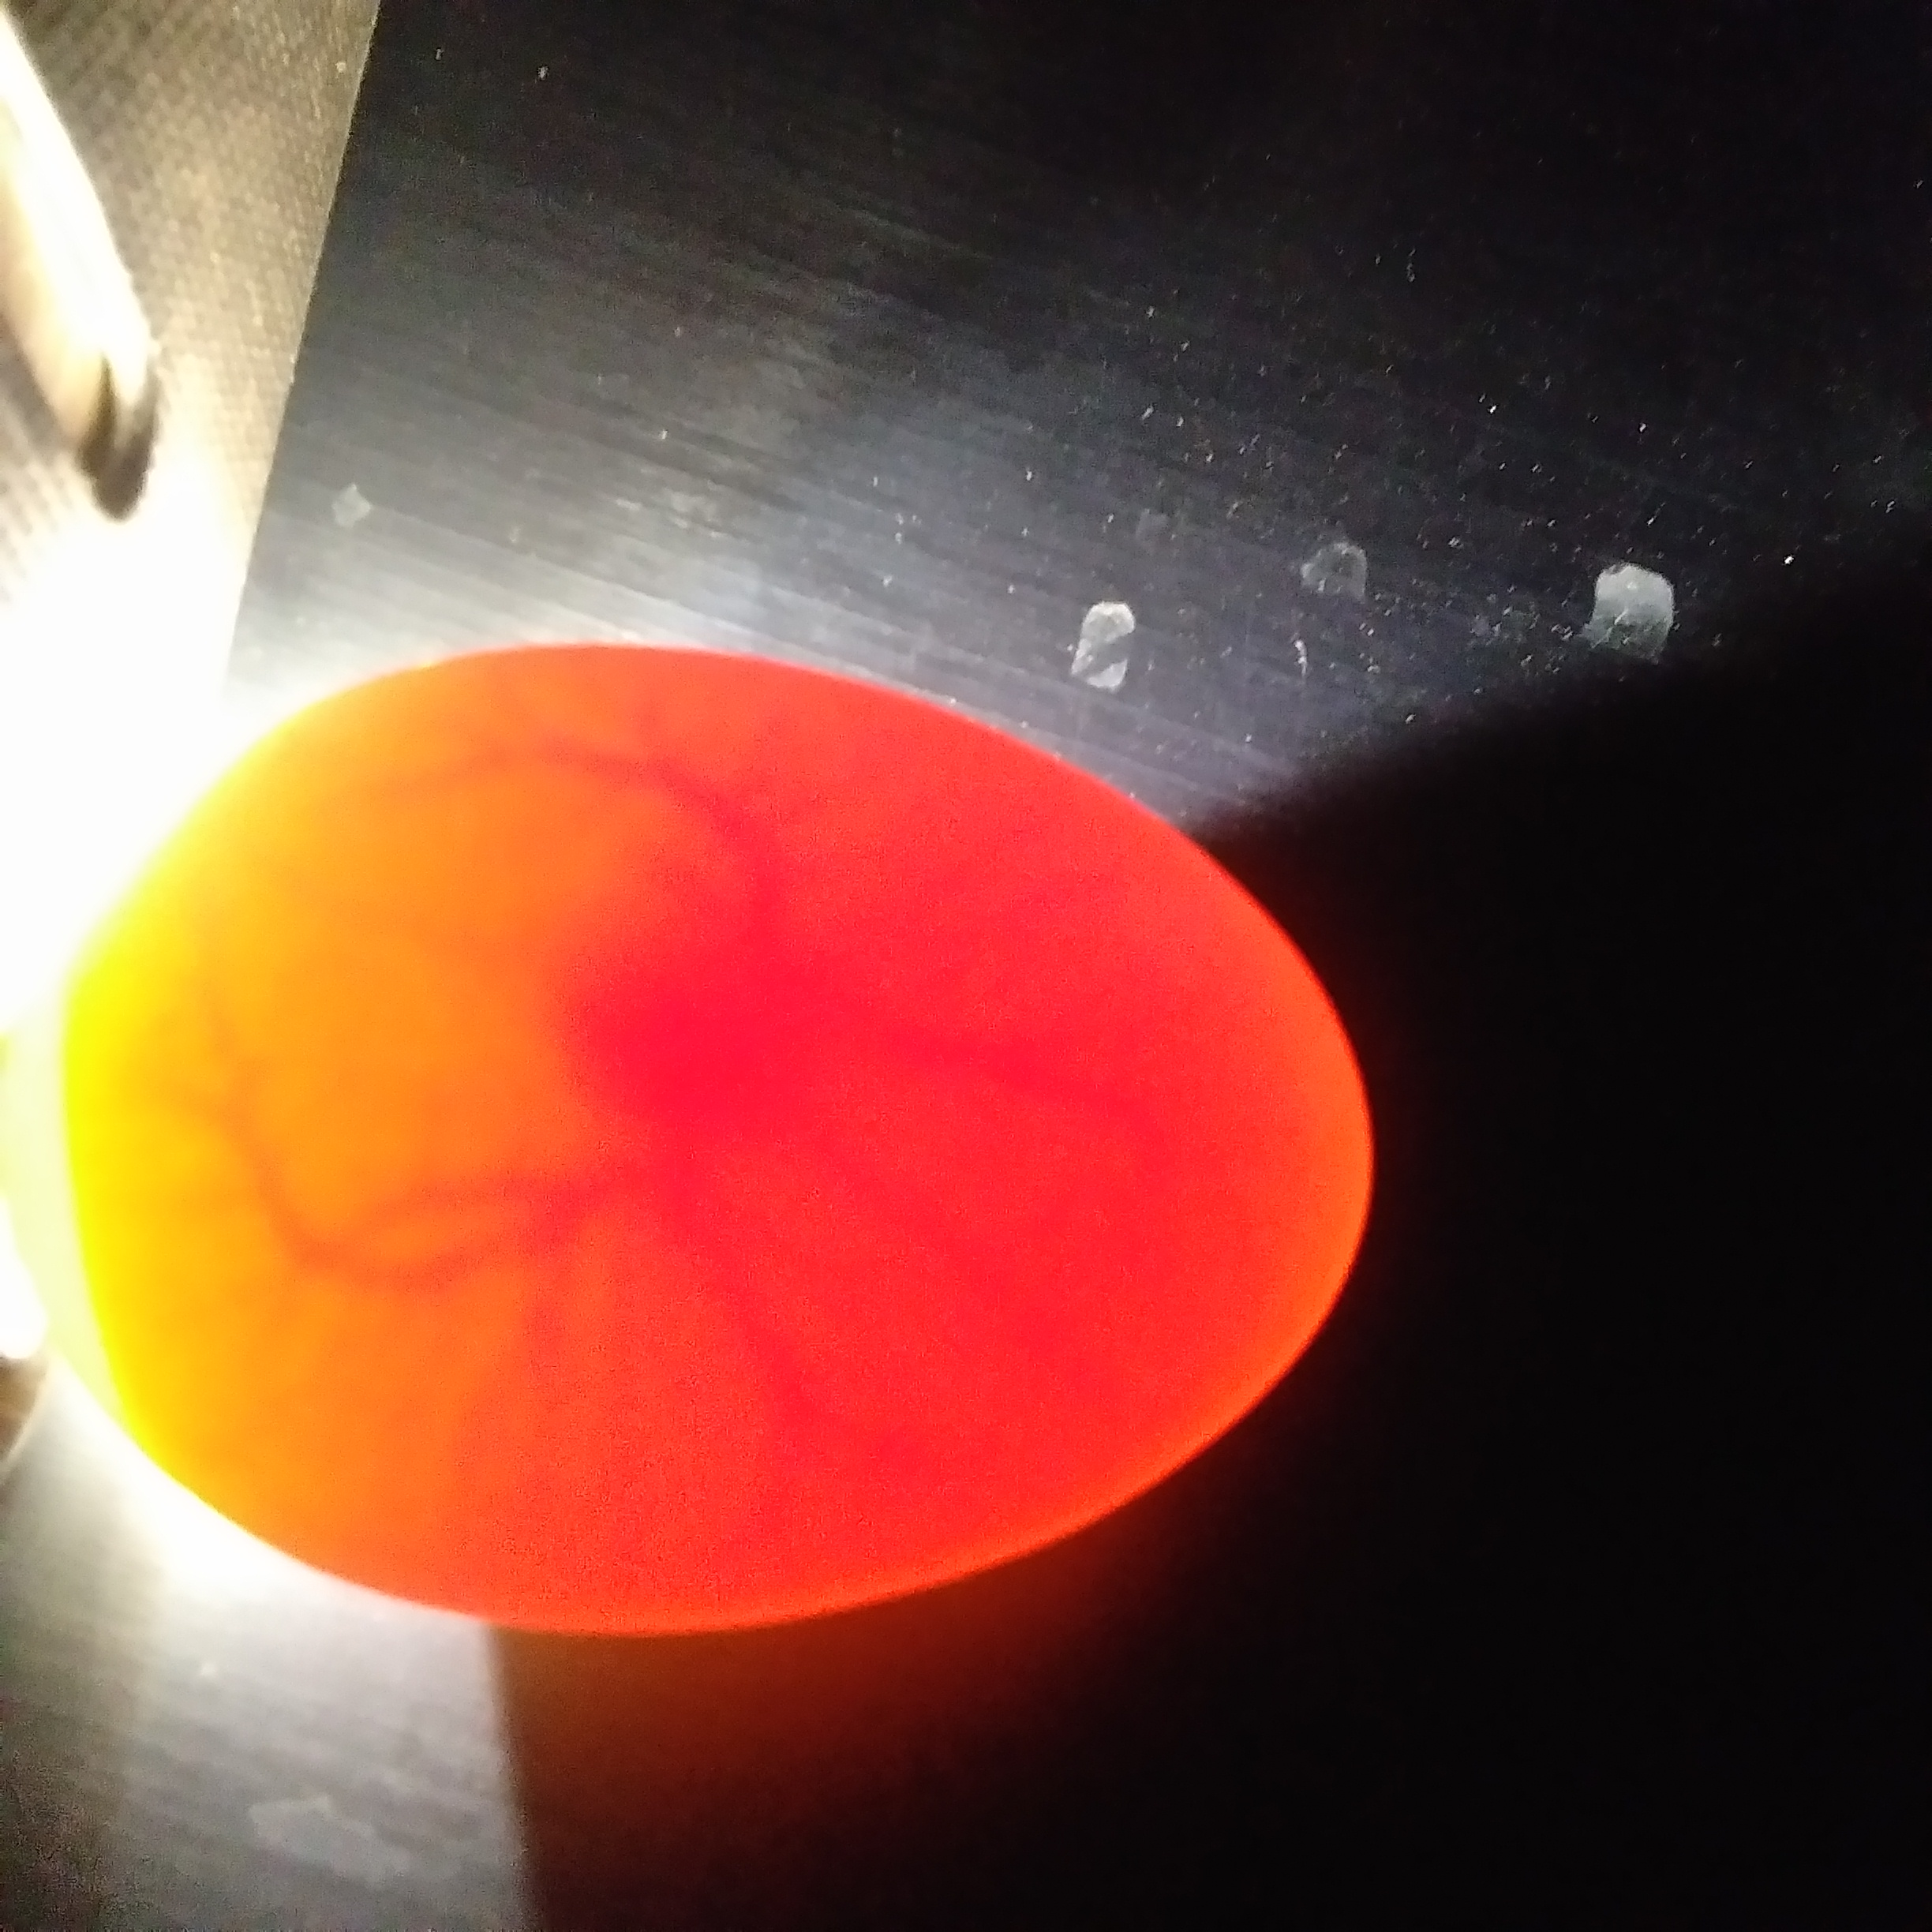bloodcell: (182, 840, 552, 1458), (865, 853, 1214, 1410)
embryo: (575, 920, 823, 1148)
